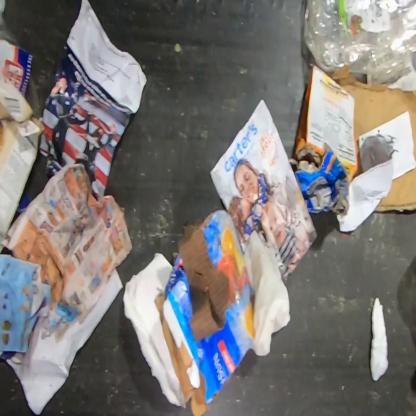cardboard: (154, 209, 255, 415), (325, 64, 415, 213), (0, 76, 46, 260), (294, 64, 360, 176), (288, 143, 354, 219)
rigid_plastic: (303, 0, 415, 85), (0, 0, 20, 49)
